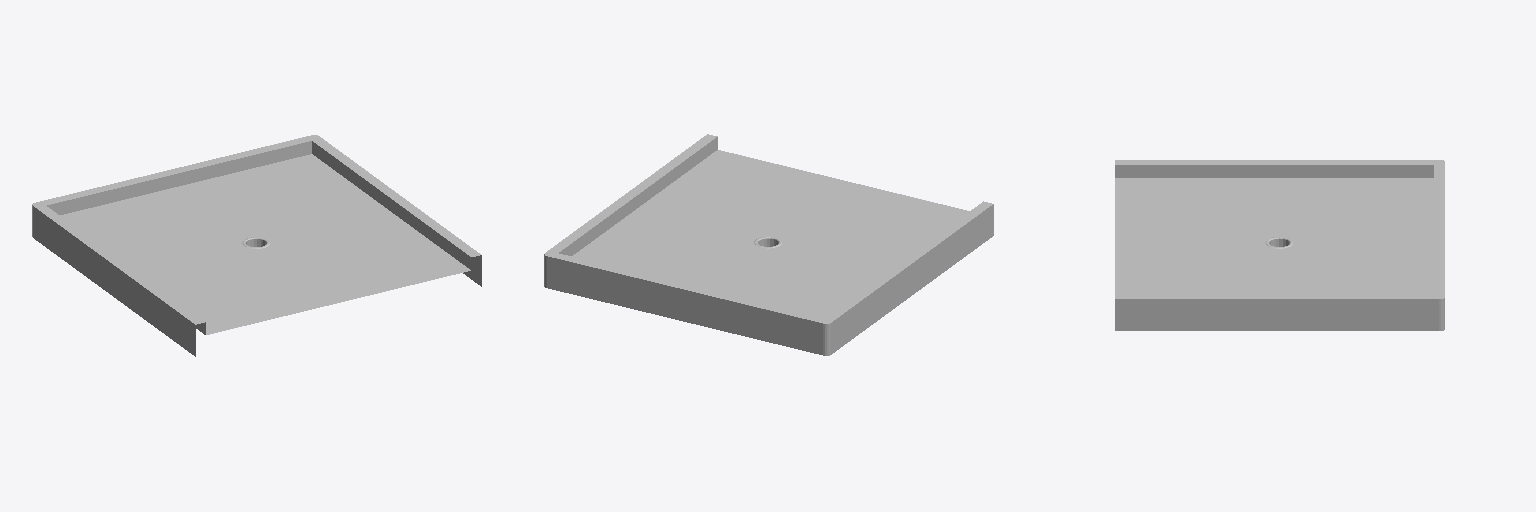
Rendered from holeEnd_mid_3x3.obj.
The picture shows the model from 3 angles: view 1: azimuth 30°, elevation 25°; view 2: azimuth 150°, elevation 25°; view 3: azimuth 270°, elevation 25°; orthographic projection.
Visible parts, largest first — view 1: modelPanel2ViewSelectedSet holeEnd_mid_3x3; view 2: modelPanel2ViewSelectedSet holeEnd_mid_3x3; view 3: modelPanel2ViewSelectedSet holeEnd_mid_3x3.
Part boxes in pixels (x1,y1,x2,y2): modelPanel2ViewSelectedSet holeEnd_mid_3x3: (32, 135, 481, 356); modelPanel2ViewSelectedSet holeEnd_mid_3x3: (544, 134, 993, 355); modelPanel2ViewSelectedSet holeEnd_mid_3x3: (1115, 160, 1444, 330).
Size of the model in its own units: 3 by 0.5318 by 3.